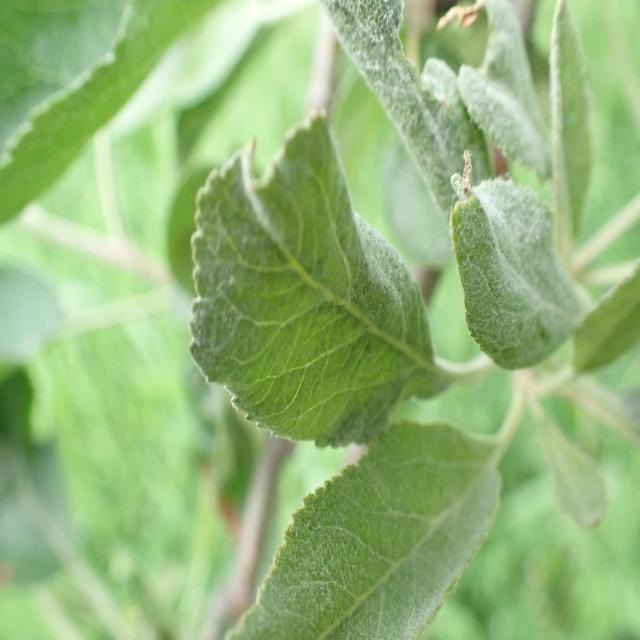Powdery_mildew: (183, 106, 444, 430), (191, 411, 520, 640), (320, 3, 516, 238), (454, 1, 618, 237), (443, 168, 590, 378)
